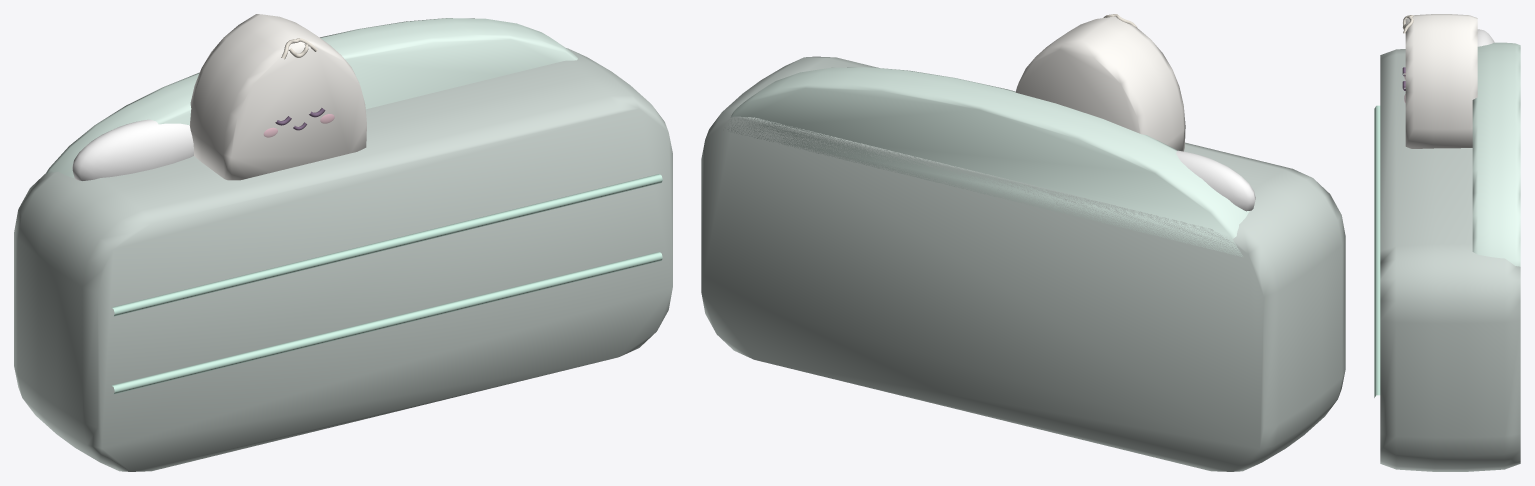
Rendered from decor_1_mint.glb.
3 views of the same model, side by side, from view 1: azimuth 30°, elevation 25°; view 2: azimuth 150°, elevation 25°; view 3: azimuth 270°, elevation 25° (orthographic). The views are drawn at different scales.
Parts seen in each view (by area): view 1: decor_1_mint; view 2: decor_1_mint; view 3: decor_1_mint.
Boxes of the visible parts, <box> form: decor_1_mint: <box>14,14,672,471</box>; decor_1_mint: <box>701,14,1345,471</box>; decor_1_mint: <box>1374,14,1520,471</box>.
Size of the model in its own units: 17.49 by 10.97 by 4.46.
